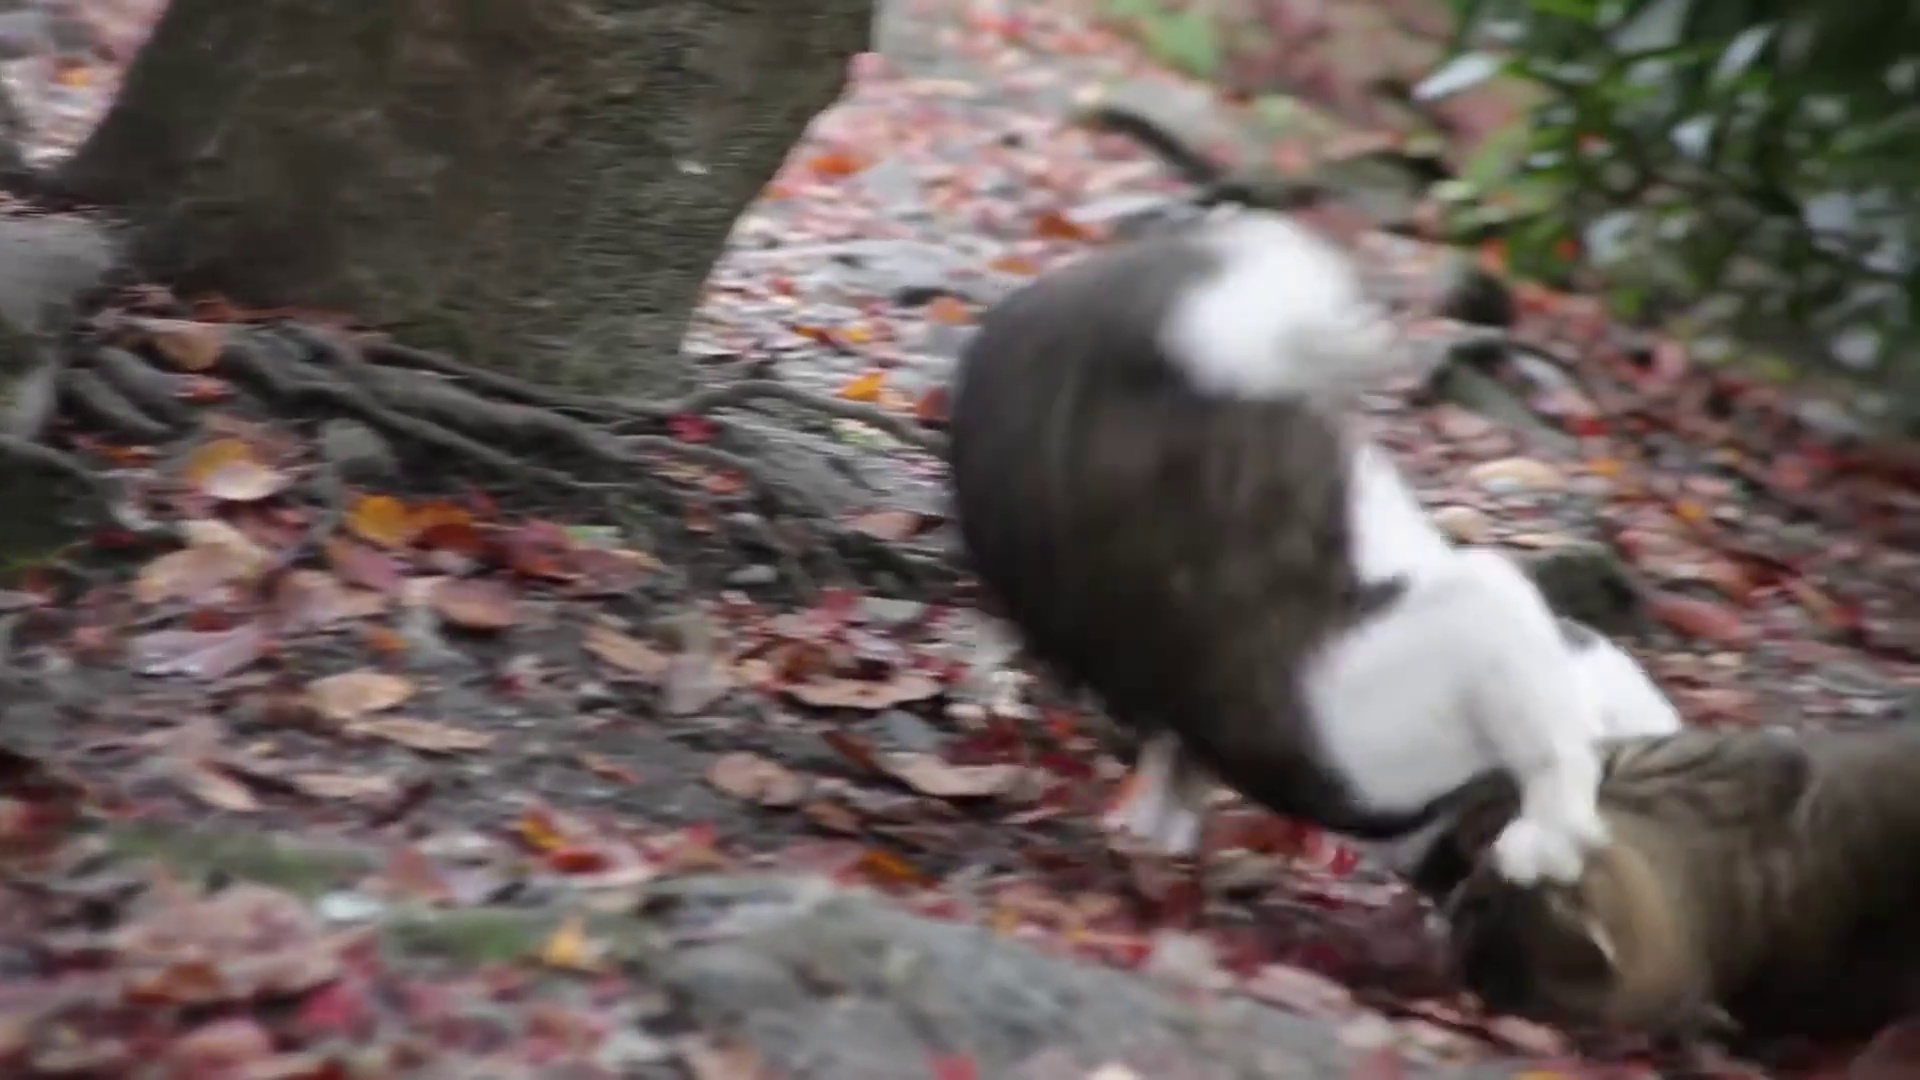black-white: (953, 206, 1604, 886)
pure black: (1436, 720, 1920, 1073)
